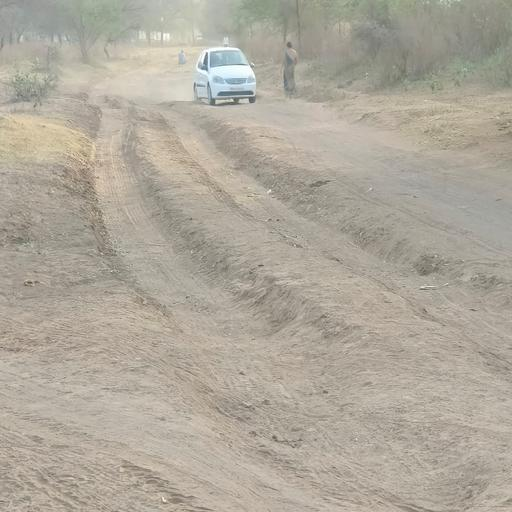vehicle_track: (92, 103, 462, 512), (161, 108, 512, 386), (234, 105, 512, 257)
